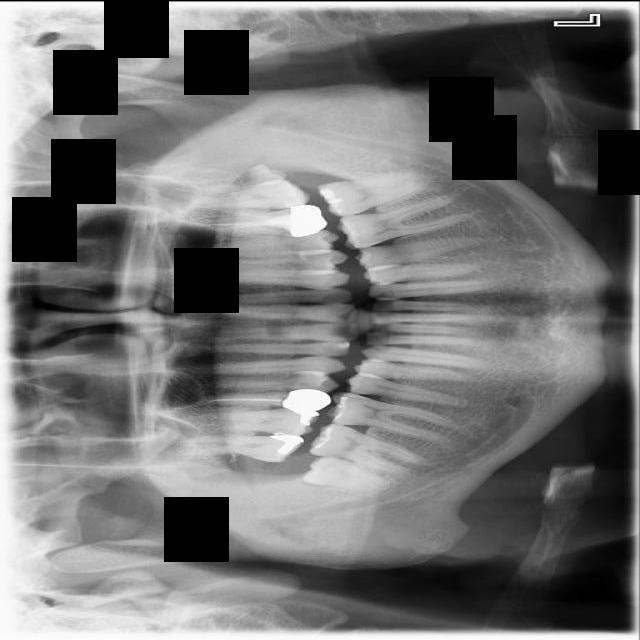52: (314, 165, 375, 228), (271, 198, 330, 242), (324, 386, 377, 433), (309, 420, 364, 460), (258, 405, 320, 437), (239, 433, 305, 463), (275, 388, 332, 411)
73: (177, 207, 280, 236), (195, 391, 281, 405), (552, 65, 564, 68)
BioHorizons Implant: (173, 177, 311, 215)
BioLife Implant: (198, 158, 288, 197)
Blue Sky Bio Implant: (315, 167, 432, 220)
Caries: (179, 432, 305, 463), (308, 431, 313, 433)
Implant: (306, 417, 428, 481)
Keystone Dental Implant: (301, 451, 395, 498)
